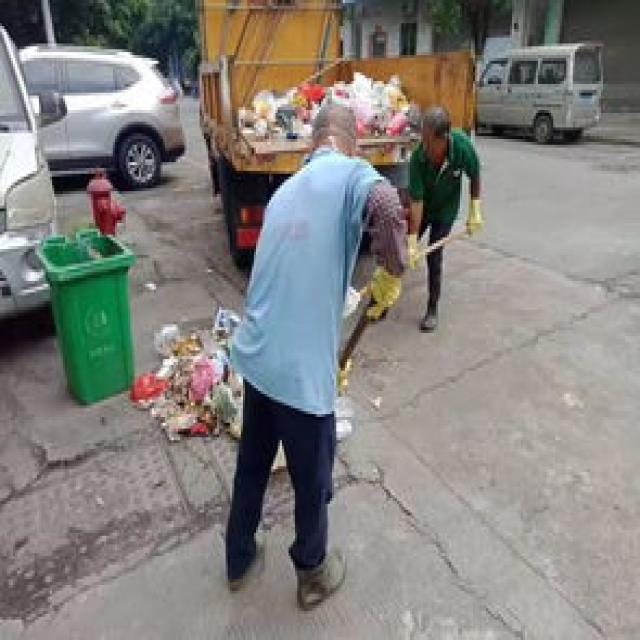garbage: (126, 301, 243, 440)
garbage_bin: (32, 223, 132, 405)
